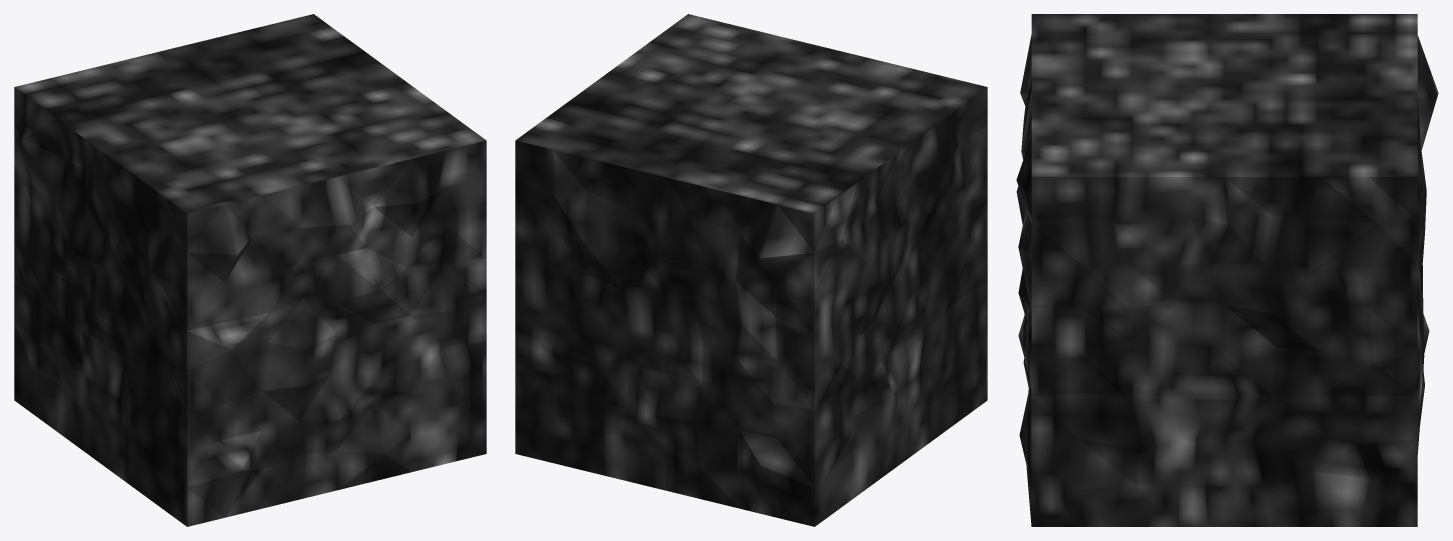
Rendered from dekoboko.obj.
3 views of the same model, side by side, from view 1: azimuth 30°, elevation 25°; view 2: azimuth 150°, elevation 25°; view 3: azimuth 270°, elevation 25° (orthographic). The views are drawn at different scales.
Visible parts, largest first — view 1: Cube; view 2: Cube; view 3: Cube.
Part boxes in pixels (x1=…): Cube: x1=14, y1=14, x2=486, y2=526; Cube: x1=515, y1=14, x2=987, y2=526; Cube: x1=1016, y1=14, x2=1438, y2=526.
Bounding box in the file's own units: 2.12 × 2 × 2.19.
1 material, 1 textured.
